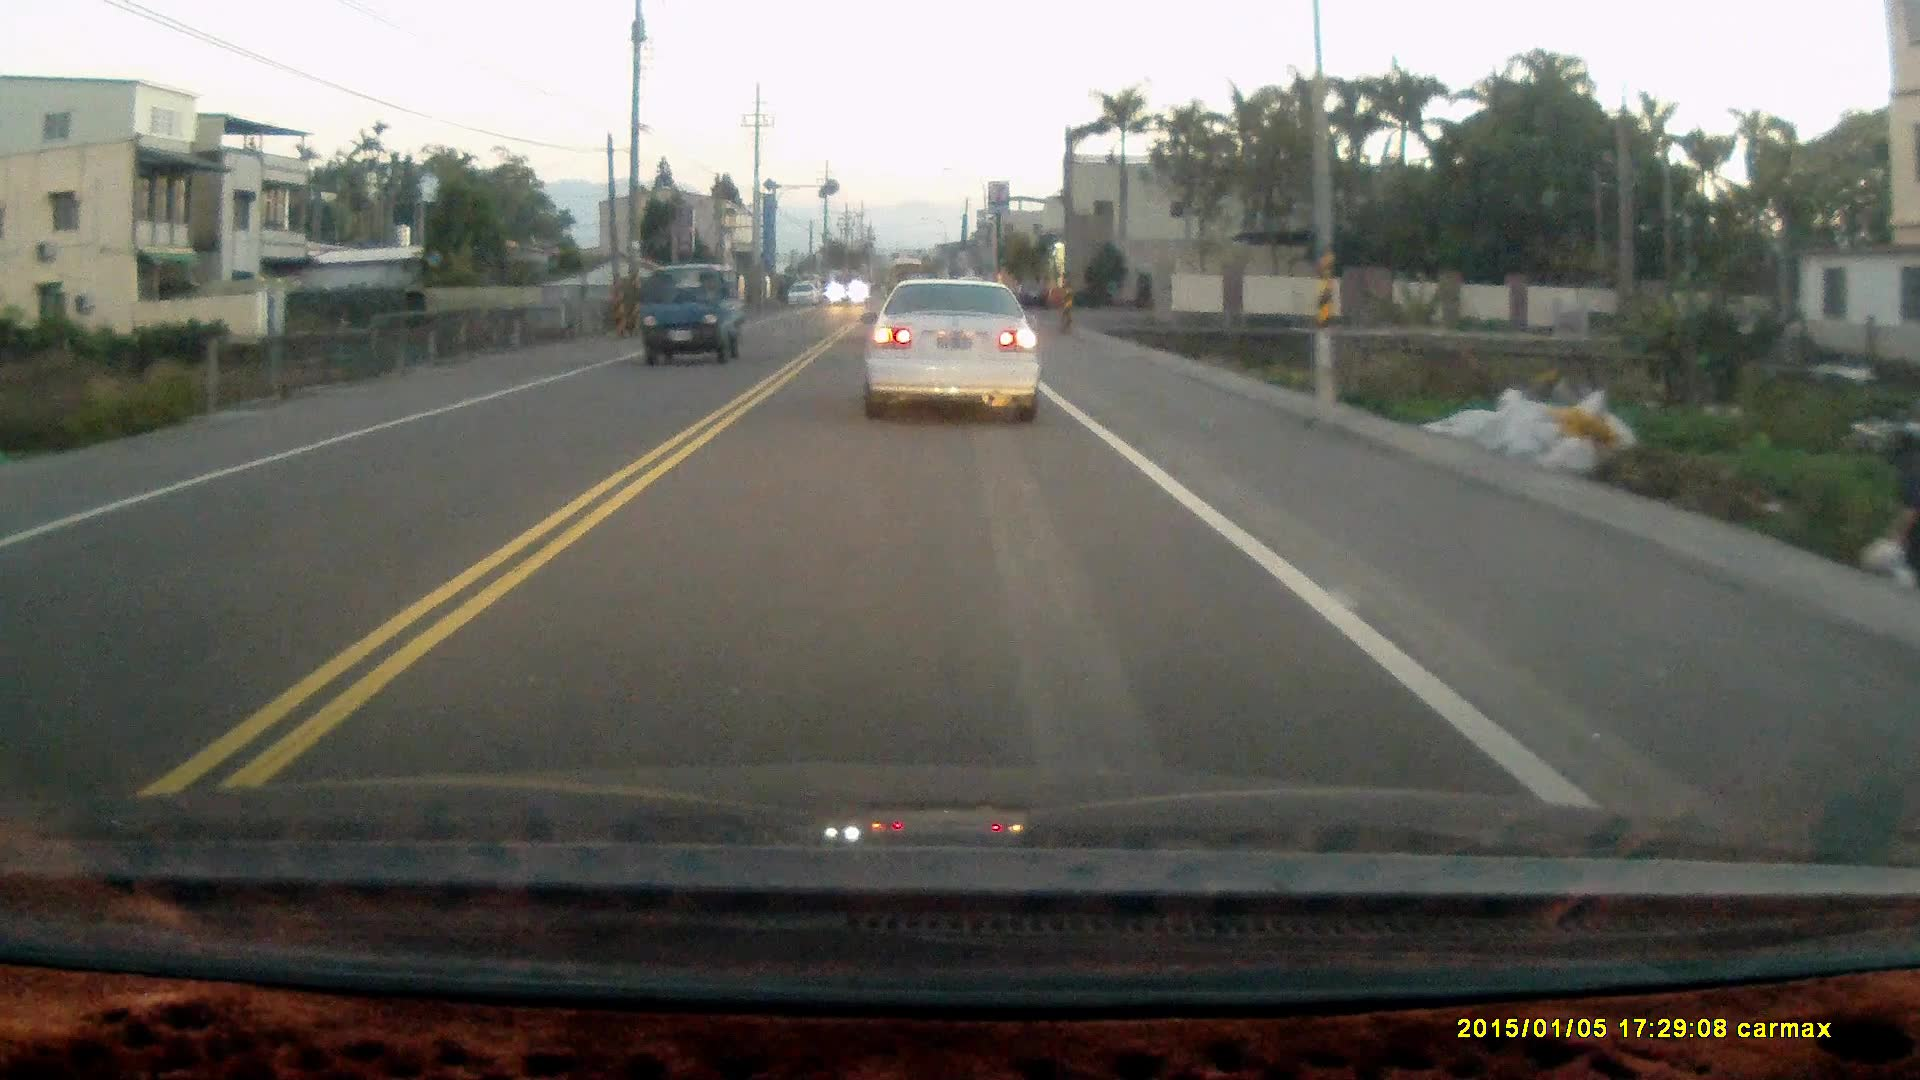pedestrian: (1884, 424, 1920, 592)
vehicle: (867, 275, 1046, 429), (640, 269, 737, 377), (831, 273, 863, 308), (788, 283, 822, 309)
